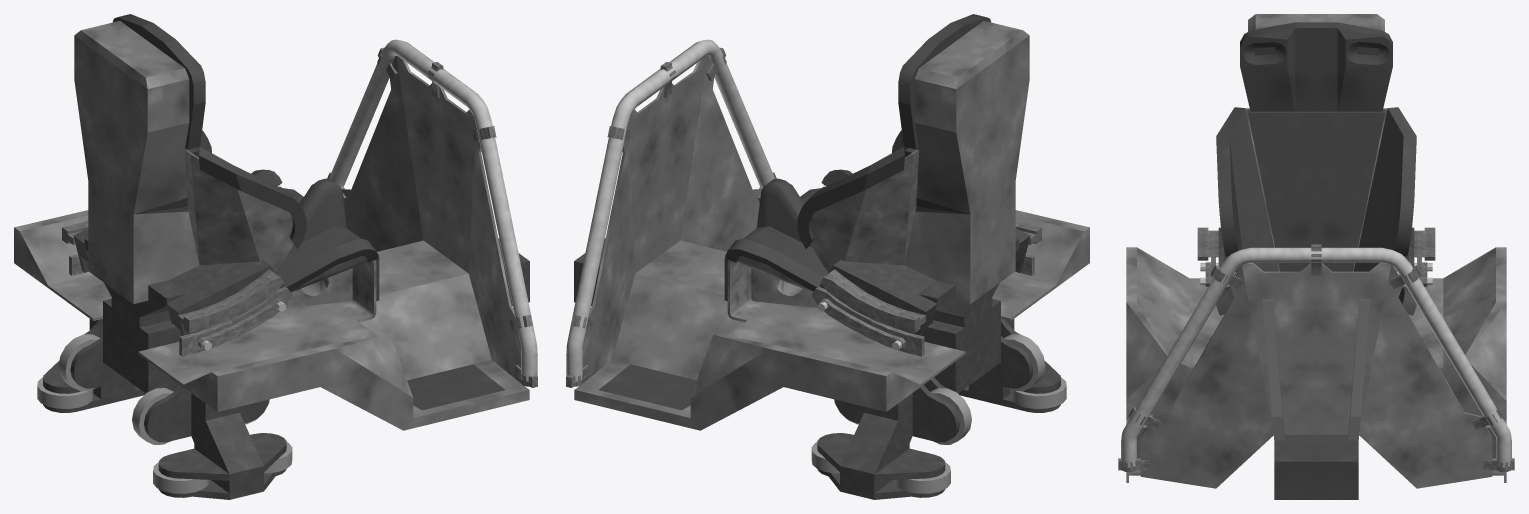
The model's file is car.obj.
3 views of the same model, side by side, from view 1: azimuth 30°, elevation 25°; view 2: azimuth 150°, elevation 25°; view 3: azimuth 270°, elevation 25° (orthographic). The views are drawn at different scales.
Bounding box in the file's own units: 1.06 × 1 × 0.953.
